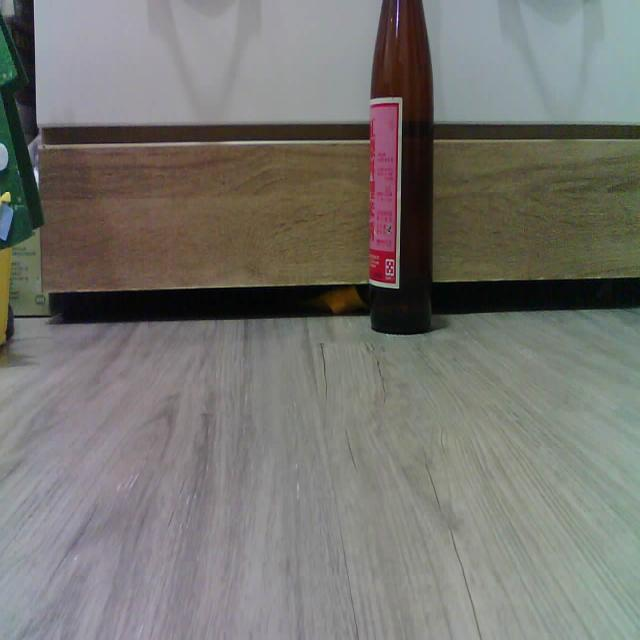bottle: (369, 0, 434, 333)
